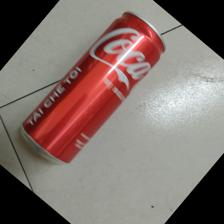Coca: (21, 10, 166, 167)
